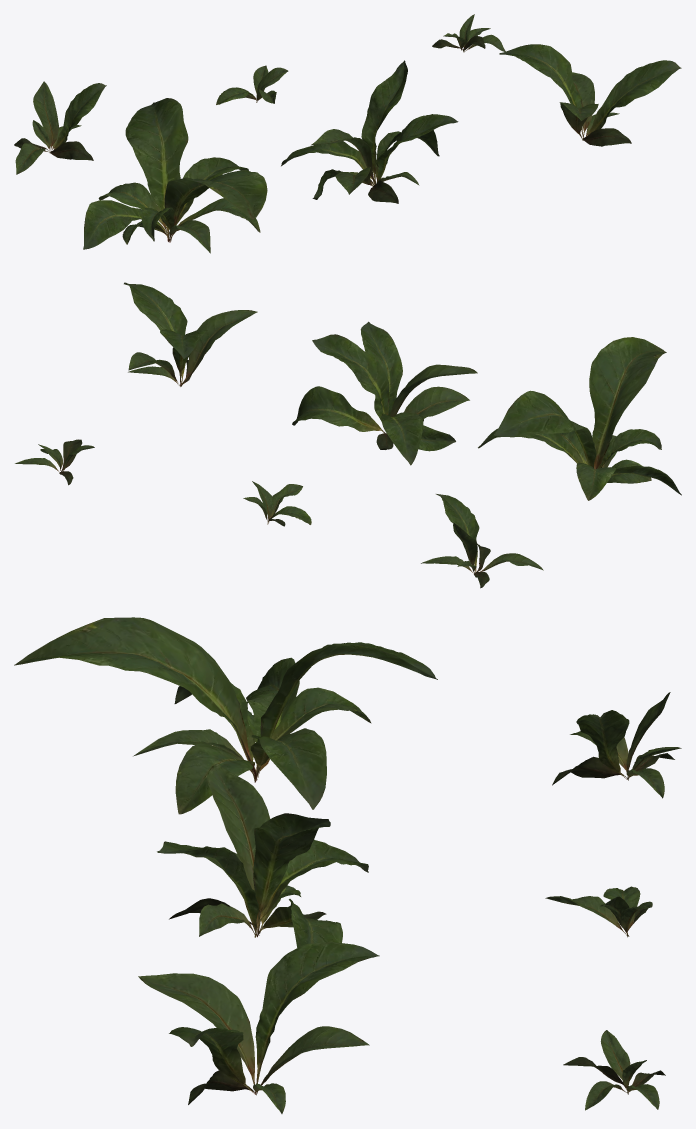
Rendered from anthurium_botany_01.glb.
3 renders of one model, top to bottom at view 1: azimuth 30°, elevation 25°; view 2: azimuth 150°, elevation 25°; view 3: azimuth 270°, elevation 25°, orthographic. The views are drawn at different scales.
Visible parts, largest first — view 1: anthurium_botany_01_a, anthurium_botany_01_b, anthurium_botany_01_c, anthurium_botany_04_d, anthurium_botany_05_e, anthurium_botany_06_f; view 2: anthurium_botany_01_a, anthurium_botany_01_b, anthurium_botany_01_c, anthurium_botany_04_d, anthurium_botany_05_e, anthurium_botany_06_f; view 3: anthurium_botany_01_a, anthurium_botany_01_b, anthurium_botany_01_c, anthurium_botany_04_d, anthurium_botany_06_f, anthurium_botany_05_e.
Part boxes in pixels (bbox=[...]): anthurium_botany_01_a: bbox=[83, 98, 267, 253]; anthurium_botany_01_b: bbox=[281, 60, 458, 203]; anthurium_botany_01_c: bbox=[499, 44, 681, 146]; anthurium_botany_04_d: bbox=[14, 81, 106, 174]; anthurium_botany_05_e: bbox=[216, 65, 288, 104]; anthurium_botany_06_f: bbox=[432, 14, 505, 52]; anthurium_botany_01_a: bbox=[478, 337, 681, 500]; anthurium_botany_01_b: bbox=[292, 321, 477, 465]; anthurium_botany_01_c: bbox=[124, 282, 257, 386]; anthurium_botany_04_d: bbox=[421, 494, 543, 588]; anthurium_botany_05_e: bbox=[243, 481, 311, 526]; anthurium_botany_06_f: bbox=[15, 439, 94, 485]; anthurium_botany_01_a: bbox=[14, 617, 437, 814]; anthurium_botany_01_b: bbox=[157, 763, 368, 947]; anthurium_botany_01_c: bbox=[138, 942, 379, 1113]; anthurium_botany_04_d: bbox=[552, 692, 681, 798]; anthurium_botany_06_f: bbox=[563, 1030, 665, 1110]; anthurium_botany_05_e: bbox=[545, 886, 652, 937].
Bounding box in the file's own units: 2.8 × 0.4996 × 1.8.
1 material, 1 textured.
